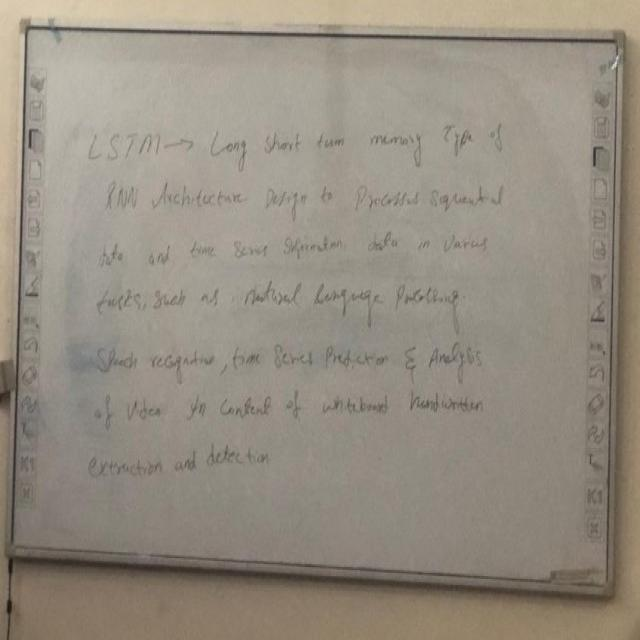White-board: (8, 22, 622, 591)
